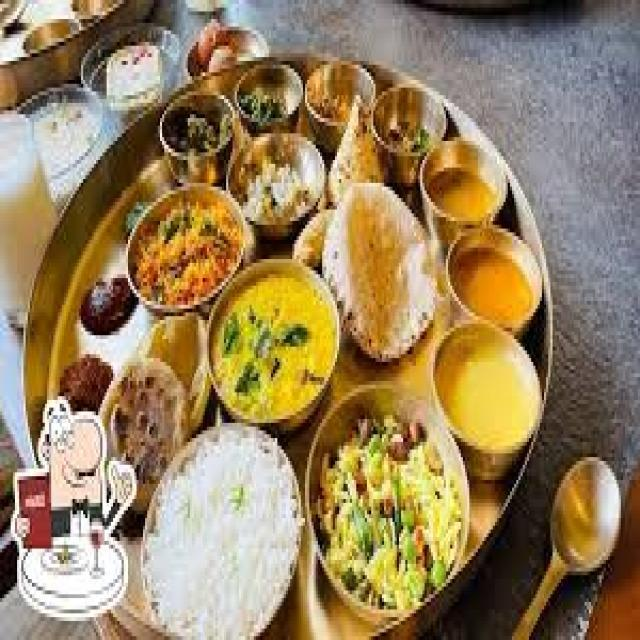dal: (210, 264, 337, 421), (433, 323, 547, 459), (419, 141, 509, 230)
papad: (331, 180, 444, 361)
rice: (145, 426, 303, 640)
roti: (100, 339, 197, 480)
sambar-rasam: (422, 138, 507, 231)
sweet: (75, 258, 146, 347), (49, 413, 109, 489), (59, 349, 113, 415)
veg-fry: (115, 174, 251, 316), (102, 353, 187, 478)
